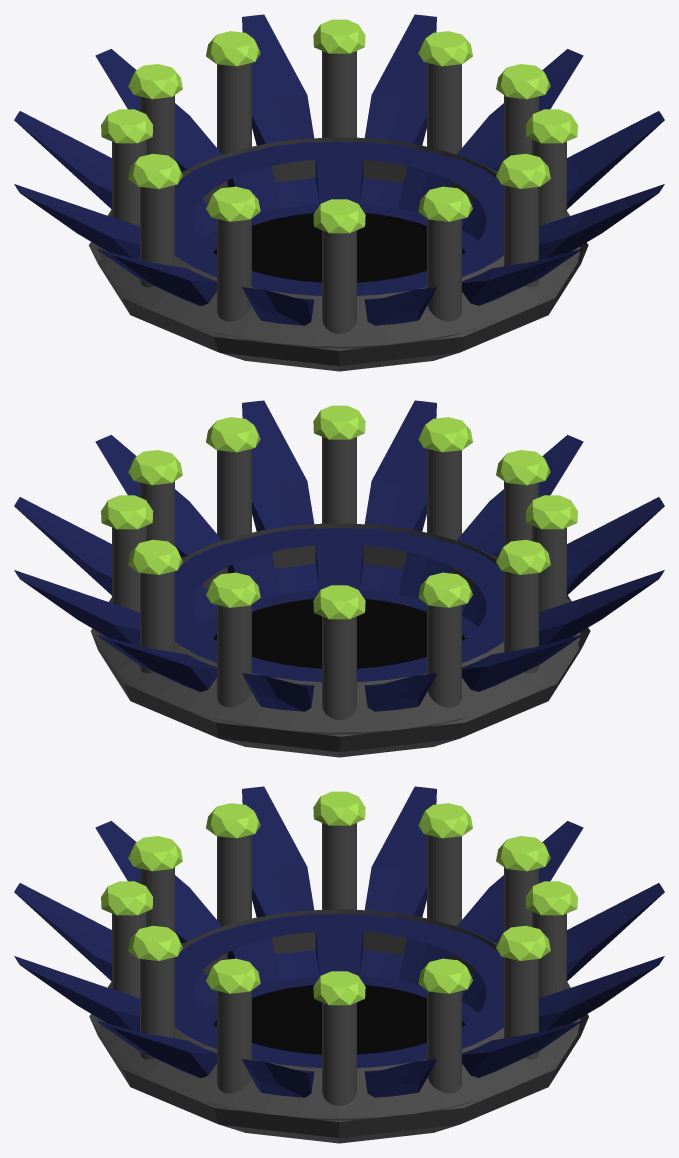
The model's file is teleporter.glb.
The picture shows the model from 3 angles, top to bottom: view 1: azimuth 30°, elevation 25°; view 2: azimuth 150°, elevation 25°; view 3: azimuth 270°, elevation 25°; orthographic projection.
Parts seen in each view (by area): view 1: Gear.001, Cylinder, Gem, Torus, Torus.001, Cylinder.001; view 2: Gear.001, Cylinder, Gem, Torus, Torus.001, Cylinder.001; view 3: Gear.001, Cylinder, Gem, Torus, Torus.001, Cylinder.001.
Part boxes in pixels (bbox=[...]): Gear.001: bbox=[14, 14, 664, 325]; Cylinder: bbox=[112, 51, 566, 333]; Gem: bbox=[101, 19, 577, 233]; Torus: bbox=[98, 137, 580, 348]; Torus.001: bbox=[88, 159, 588, 371]; Cylinder.001: bbox=[213, 213, 465, 282]; Gear.001: bbox=[14, 400, 664, 711]; Cylinder: bbox=[112, 437, 566, 719]; Gem: bbox=[101, 405, 577, 619]; Torus: bbox=[98, 523, 580, 734]; Torus.001: bbox=[90, 545, 590, 757]; Cylinder.001: bbox=[213, 599, 465, 668]; Gear.001: bbox=[14, 786, 664, 1097]; Cylinder: bbox=[112, 823, 566, 1105]; Gem: bbox=[101, 791, 577, 1005]; Torus: bbox=[98, 909, 580, 1120]; Torus.001: bbox=[89, 931, 588, 1143]; Cylinder.001: bbox=[213, 985, 465, 1054].
Bounding box in the file's own units: 3.19 × 0.9427 × 3.19.
